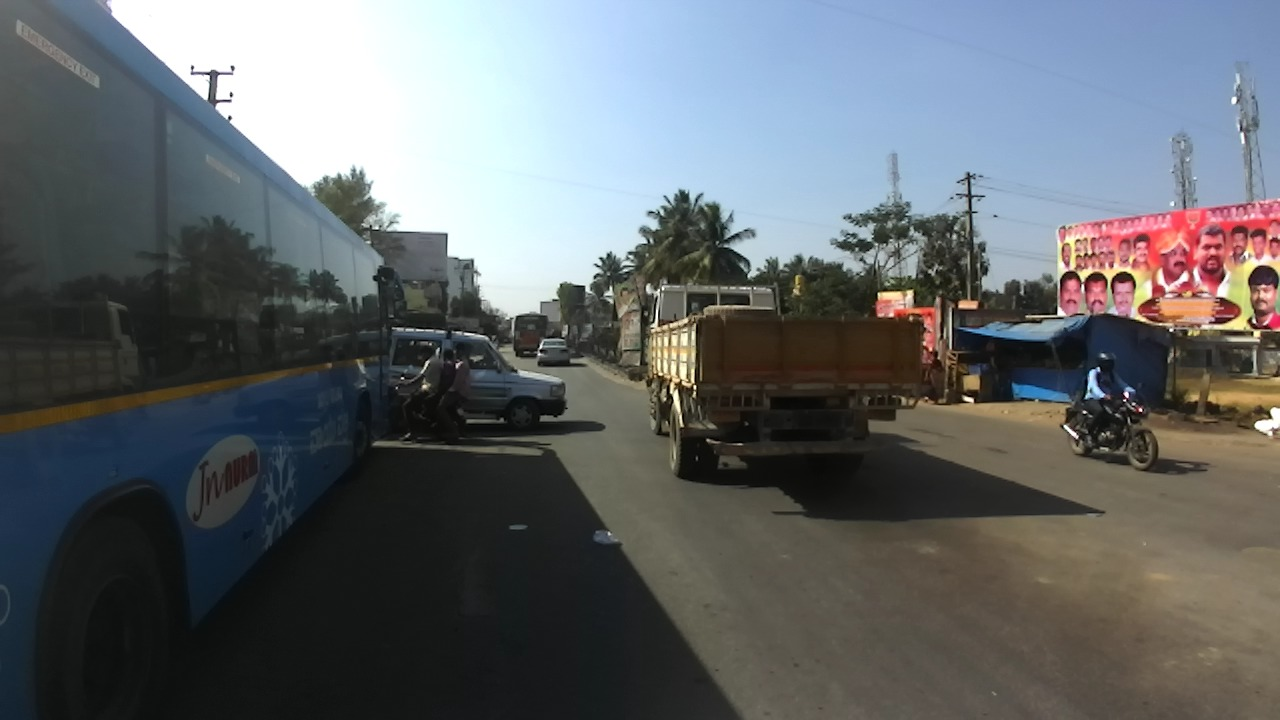bus: (1, 1, 405, 716), (512, 311, 549, 358)
car: (388, 321, 569, 431), (536, 338, 573, 367)
motorcycle: (1059, 380, 1160, 471), (387, 368, 471, 442)
person: (926, 350, 946, 406)
rider: (1076, 349, 1139, 446), (390, 344, 444, 442), (417, 347, 458, 439), (434, 340, 470, 439)
truck: (642, 280, 919, 489)
vehicle fallback: (497, 326, 512, 345)
